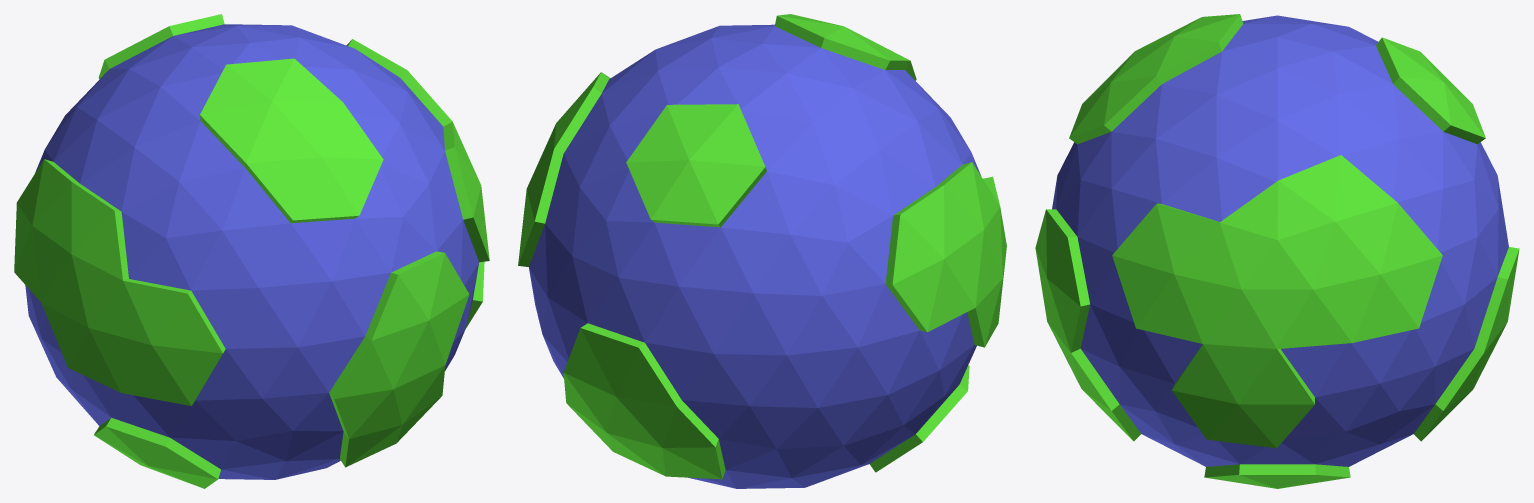
The model's file is EarthLowPoly.fbx.
3 views of the same model, side by side, from view 1: azimuth 30°, elevation 25°; view 2: azimuth 150°, elevation 25°; view 3: azimuth 270°, elevation 25° (orthographic).
Parts seen in each view (by area): view 1: Icosphere; view 2: Icosphere; view 3: Icosphere.
Part boxes in pixels (x1=…): Icosphere: x1=14, y1=14, x2=489, y2=488; Icosphere: x1=518, y1=14, x2=1006, y2=488; Icosphere: x1=1035, y1=14, x2=1519, y2=488.
Bounding box in the file's own units: 209 × 202 × 209.
